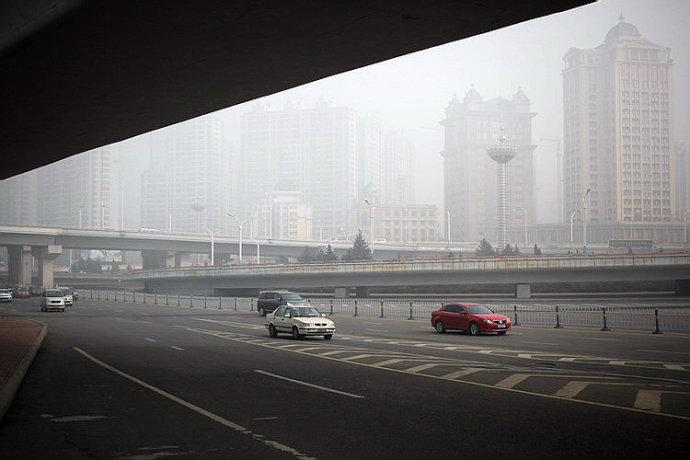bus: (606, 237, 662, 262)
car: (431, 302, 512, 336), (264, 305, 336, 340), (257, 290, 312, 316), (39, 288, 67, 312), (54, 287, 73, 307), (13, 286, 30, 299), (1, 289, 13, 303)
